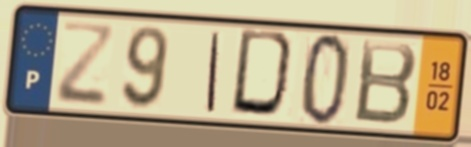0: (297, 31, 353, 128)
9: (117, 22, 170, 113)
B: (351, 37, 420, 129)
D: (227, 26, 302, 124)
I: (203, 29, 224, 116)
Z: (53, 18, 117, 109)
